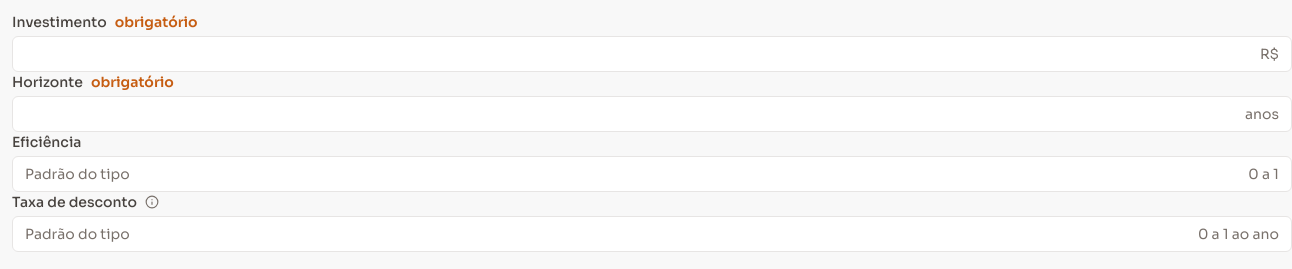
Test: reset, validation and submit › shows the tooltip next to the label when the field has one
The width and height of the screenshot is (1292, 269).
Focus the button named "Ajuda: Taxa de desconto" at (152, 202), box [145, 195, 159, 209]
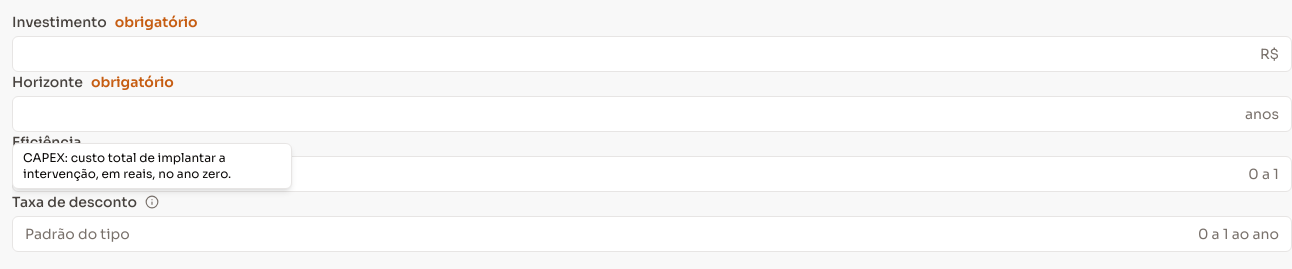
Check: the tooltip shows "CAPEX", box [23, 150, 231, 181]
